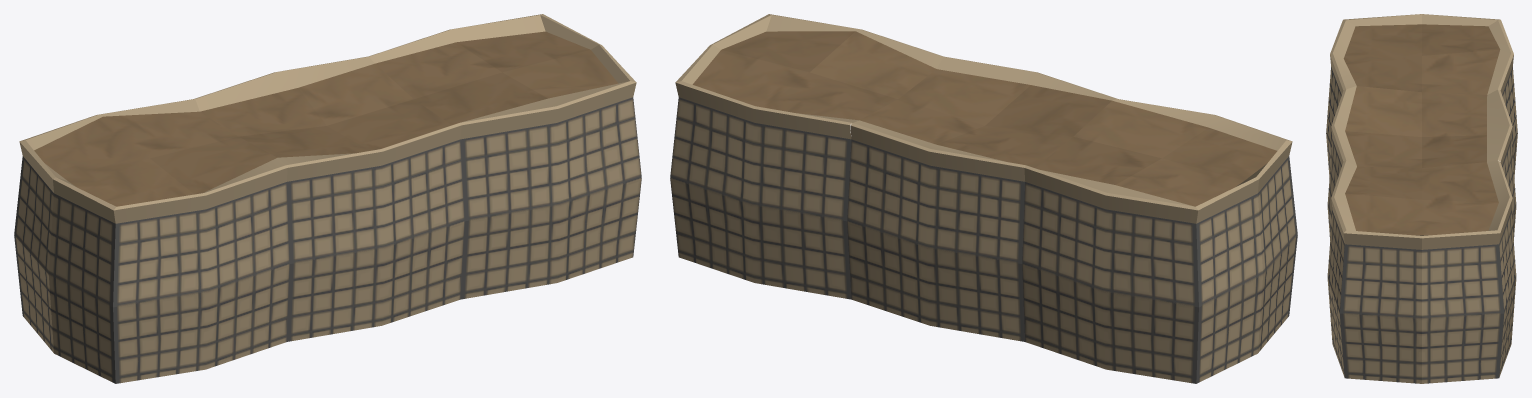
The model's file is SM_Prop_Barrier_Base_Row_01.glb.
3 renders of one model, left to right at view 1: azimuth 30°, elevation 25°; view 2: azimuth 150°, elevation 25°; view 3: azimuth 270°, elevation 25°, orthographic. The views are drawn at different scales.
Visible parts, largest first — view 1: SM_Prop_Barrier_Base_Row_01; view 2: SM_Prop_Barrier_Base_Row_01; view 3: SM_Prop_Barrier_Base_Row_01.
Part boxes in pixels (x1,y1,x2,y2): SM_Prop_Barrier_Base_Row_01: [14, 14, 641, 383]; SM_Prop_Barrier_Base_Row_01: [670, 14, 1297, 383]; SM_Prop_Barrier_Base_Row_01: [1326, 14, 1517, 383].
Size of the model in its own units: 3.42 by 1.05 by 1.22.
Materials: 1 (1 with a texture image).
